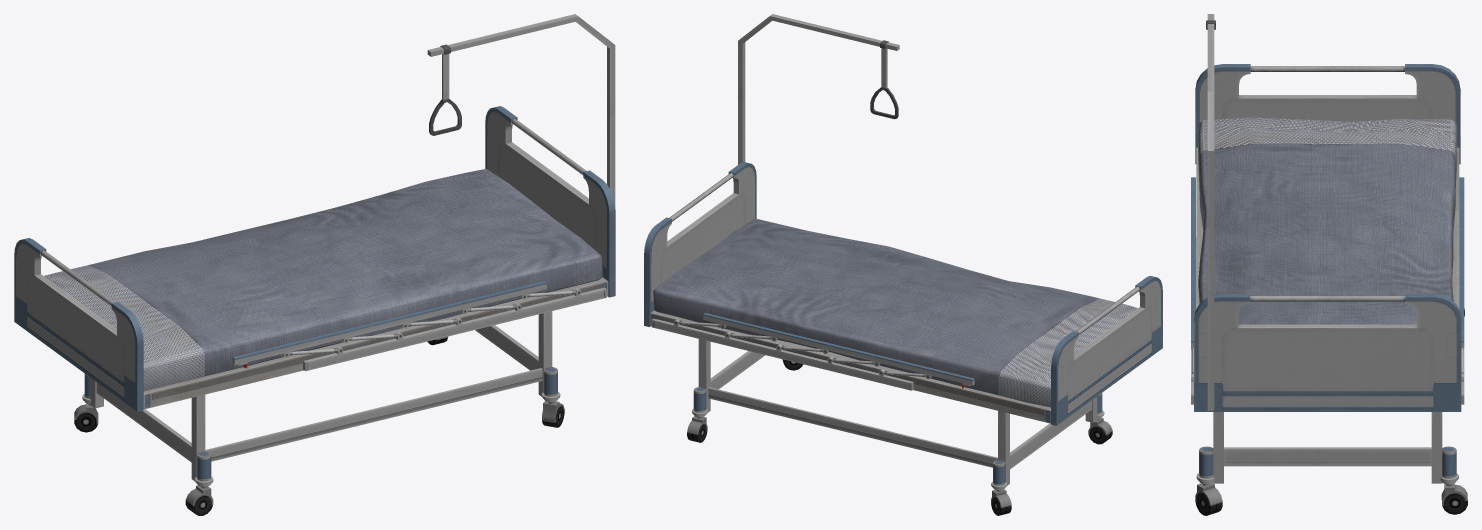
File: HH_Hospital_Bed_03.fbx
The picture shows the model from 3 angles, left to right: view 1: azimuth 30°, elevation 25°; view 2: azimuth 150°, elevation 25°; view 3: azimuth 270°, elevation 25°; orthographic projection. The views are drawn at different scales.
Visible parts, largest first — view 1: HH_Hospital_Bed_03_LOD0; view 2: HH_Hospital_Bed_03_LOD0; view 3: HH_Hospital_Bed_03_LOD0.
Boxes of the visible parts, <box> form: HH_Hospital_Bed_03_LOD0: <box>14,14,615,515</box>; HH_Hospital_Bed_03_LOD0: <box>644,14,1162,515</box>; HH_Hospital_Bed_03_LOD0: <box>1191,14,1467,515</box>.
Size of what is drawn, in the model's own units: 223 by 178 by 102.
